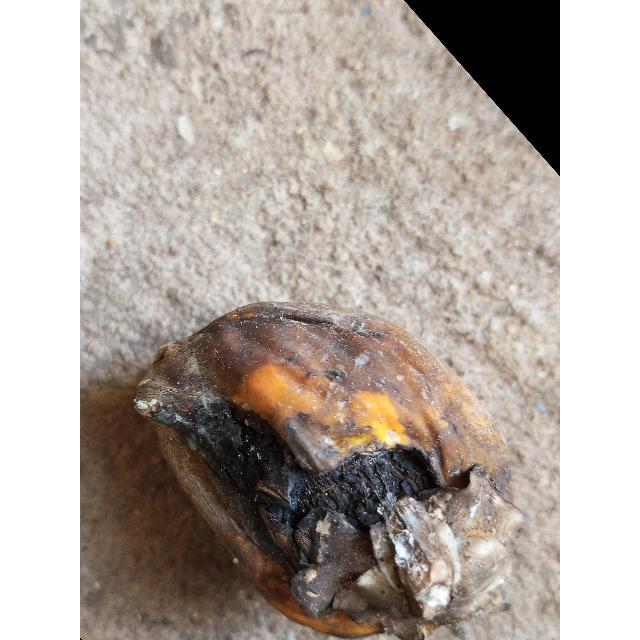damaged: (133, 303, 515, 640)
